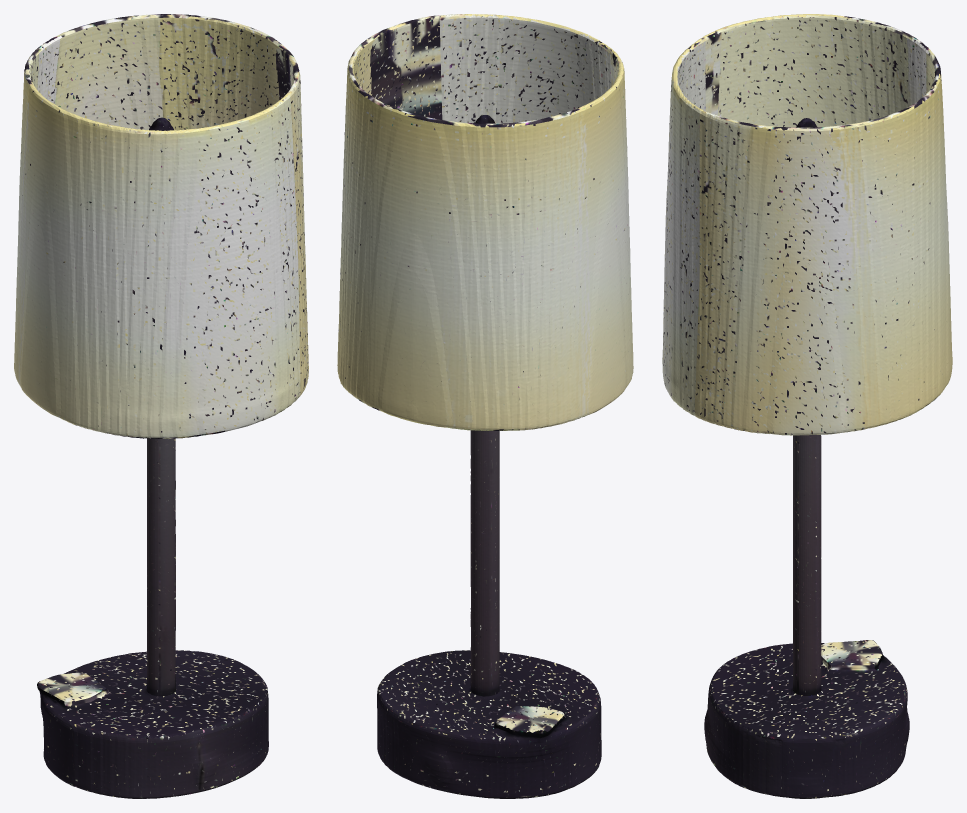
File: small-bedroom-lamps-color-temperatures.glb
The picture shows the model from 3 angles, left to right: view 1: azimuth 30°, elevation 25°; view 2: azimuth 150°, elevation 25°; view 3: azimuth 270°, elevation 25°; orthographic projection.
Visible parts, largest first — view 1: world; view 2: world; view 3: world.
Boxes of the visible parts, bbox=[...] form: world: bbox=[14, 14, 308, 798]; world: bbox=[337, 14, 633, 798]; world: bbox=[662, 14, 952, 798].
Size of the model in its own units: 0.7617 by 1.99 by 0.7652.
1 material, 1 textured.
